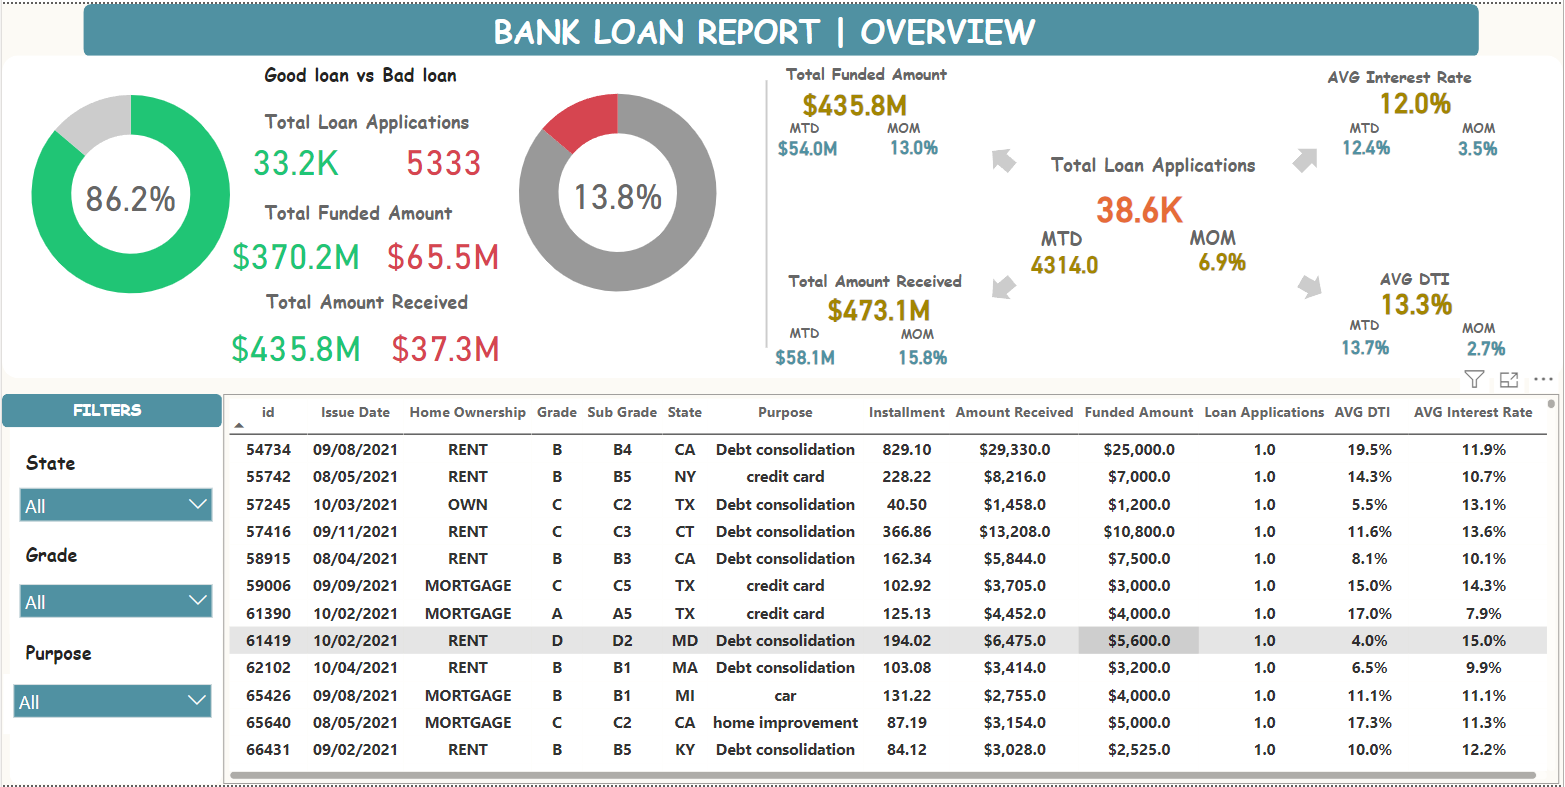

This screenshot's page, from the dashboard's own definition file:
{"tool":"powerbi","page":{"name":"Overview","canvas":[1600,800],"ordinal":1},"visuals":[{"type":"shape","box":[82.9,0,1430.7,54.3],"z":0},{"type":"textbox","box":[1069.5,146.1,252.5,45.1],"z":0,"group":"g1"},{"type":"textbox","box":[498.6,0,665.8,69.3],"z":1000},{"type":"card","fields":{"Values":["calculations.Total loan applications"]},"box":[1091.1,173.2,151.5,70.3],"z":1000,"group":"g1"},{"type":"shape","box":[0,52.4,1600,331.1],"z":2000},{"type":"textbox","box":[1060.5,221.8,61.3,45.1],"z":2000,"group":"g1"},{"type":"donutChart","fields":{"Category":["bank loan data.Good vs Bad Loan"],"Y":["calculations.Total loan applications"]},"box":[0,55.7,264.3,280],"z":3000},{"type":"textbox","box":[1212,220,79.4,45.1],"z":3000,"group":"g1"},{"type":"donutChart","fields":{"Category":["bank loan data.Good vs Bad Loan"],"Y":["calculations.Total loan applications"]},"box":[499.6,54.1,263.3,279.5],"z":4000},{"type":"card","fields":{"Values":["calculations.MTD_loan_application"]},"box":[1015,244.6,149.5,43.5],"z":4000,"group":"g1"},{"type":"card","fields":{"Values":["calculations.Total funded amount"]},"box":[800,80.9,149.8,43.4],"z":5000},{"type":"card","fields":{"Values":["calculations.MOM_change_total-application"]},"box":[1175.3,244.6,152.2,36.7],"z":5000,"group":"g1"},{"type":"card","fields":{"Values":["calculations.Bad loan application %"]},"box":[537.4,146.1,187.6,97.4],"z":6000},{"type":"card","fields":{"Values":["calculations.Good loan application %"]},"box":[39,146.8,187.3,97.4],"z":7000},{"type":"textbox","box":[263.3,54.1,225.4,46.9],"z":8000},{"type":"textbox","box":[263.3,101,252.5,45.1],"z":9000},{"type":"card","fields":{"Values":["calculations.Good loan applications"]},"box":[225.4,124.4,151.5,70.3],"z":10000},{"type":"card","fields":{"Values":["calculations.Bad loan applications"]},"box":[376.9,124.4,151.5,70.3],"z":11000},{"type":"textbox","box":[263.3,194.8,225.4,46.9],"z":12000},{"type":"card","fields":{"Values":["calculations.Good loan total funded amount"]},"box":[225.4,220,151.5,70.3],"z":13000},{"type":"card","fields":{"Values":["calculations.Bad loan total funded amount"]},"box":[376.9,220,151.5,70.3],"z":14000},{"type":"textbox","box":[265.2,286.1,251.7,47.9],"z":15000},{"type":"card","fields":{"Values":["calculations.Good loan total amount received"]},"box":[225.4,315.6,151.5,70.3],"z":16000},{"type":"card","fields":{"Values":["calculations.Bad loan total amount received"]},"box":[378.7,315.6,151.5,70.3],"z":17000},{"type":"shape","box":[752,77.5,63.1,274.1],"z":18000},{"type":"group","id":"g1","title":"Group 1","box":[1015,146.1,312.5,142],"z":19000},{"type":"textbox","box":[798.5,55.4,226.2,46.4],"z":20000},{"type":"textbox","box":[801.4,112.9,67.1,47.1],"z":21000},{"type":"textbox","box":[901.4,112.9,68.6,47.1],"z":22000},{"type":"card","fields":{"Values":["calculations.MTD_funded_amount"]},"box":[751.4,127.1,150,42.9],"z":23000},{"type":"card","fields":{"Values":["calculations.MOM_change_funded_amount"]},"box":[860,125.7,150,42.9],"z":24000},{"type":"shape","box":[1322.8,137.8,25.5,44.9],"z":25000},{"type":"shape","box":[1014.2,137.8,25.5,44.9],"z":26000},{"type":"shape","box":[1014.2,268.2,25.5,44.9],"z":27000},{"type":"shape","box":[1327.3,268.2,25.5,44.9],"z":28000},{"type":"textbox","box":[800.3,267.7,226.9,42.1],"z":29000},{"type":"card","fields":{"Values":["calculations.Total_amont_received"]},"box":[814.3,291.4,168.6,42.9],"z":30000},{"type":"textbox","box":[801.4,322.9,67.1,47.1],"z":31000},{"type":"textbox","box":[915.7,324.3,67.1,47.1],"z":32000},{"type":"card","fields":{"Values":["calculations.MTD_amount_received"]},"box":[748.6,341.4,150,42.9],"z":33000},{"type":"card","fields":{"Values":["calculations.MOM_change_amount_received"]},"box":[868.6,341.4,150,42.9],"z":34000},{"type":"textbox","box":[1352.8,58.4,226.2,41.9],"z":35000},{"type":"card","fields":{"Values":["calculations.AVG_interest_rate"]},"box":[1373.8,77.9,149.8,43.4],"z":36000},{"type":"textbox","box":[1375.7,112.9,67.1,47.1],"z":37000},{"type":"textbox","box":[1491.4,112.9,68.6,47.1],"z":38000},{"type":"card","fields":{"Values":["calculations.MTD_average_interest_rate"]},"box":[1323.4,125,149.5,43.5],"z":39000},{"type":"card","fields":{"Values":["calculations.MOM_change_avg_int_rate"]},"box":[1437.5,126.4,150.8,43.5],"z":40000},{"type":"textbox","box":[1406.7,265.2,115.4,41.9],"z":41000},{"type":"card","fields":{"Values":["calculations.avg_dti"]},"box":[1375.3,284.6,149.8,43.4],"z":42000},{"type":"textbox","box":[1375.7,315.7,67.1,47.1],"z":43000},{"type":"textbox","box":[1491.4,317.1,68.6,47.1],"z":44000},{"type":"card","fields":{"Values":["calculations.MTD_avg_dti"]},"box":[1322.8,331.1,149.8,43.4],"z":45000},{"type":"card","fields":{"Values":["calculations.MOM_change_avg_dti"]},"box":[1447.1,331.4,150,42.9],"z":46000},{"type":"shape","box":[245.3,400.4,1354.4,400.4],"z":47000},{"type":"shape","box":[7.2,400.4,218.2,400.4],"z":48000},{"type":"shape","box":[245.3,404,1340,34.3],"z":49000},{"type":"slicer","fields":{"Values":["Parameter.Parameter"]},"box":[248.9,396.8,389.5,45.1],"z":50000},{"type":"shape","box":[0,400.4,225.4,34.3],"z":51000},{"type":"textbox","box":[67.4,400,131.8,34.5],"z":52000},{"type":"slicer","fields":{"Values":["bank loan data.State"]},"box":[7.2,485.1,218.2,61.3],"z":53000},{"type":"textbox","box":[19.8,546.4,225.4,46.9],"z":54000},{"type":"slicer","fields":{"Values":["bank loan data.grade"]},"box":[7.2,584.3,218.2,61.3],"z":55000},{"type":"slicer","fields":{"Values":["bank loan data.purpose"]},"box":[1.8,687.1,223.6,61.3],"z":56000},{"type":"textbox","box":[19.8,450.9,225.4,46.9],"z":57000},{"type":"textbox","box":[19.8,645.6,225.4,46.9],"z":58000},{"type":"donutChart","fields":{"Y":["calculations.Total funded amount"],"Category":["bank loan data.term"]},"box":[266.9,452.7,284.9,317.4],"z":59000},{"type":"shape","box":[225.4,449.1,61.3,321],"z":60000},{"type":"shape","box":[537.4,447.3,63.1,321],"z":61000},{"type":"barChart","fields":{"Y":["calculations.Total funded amount"],"Category":["bank loan data.emp_length"]},"box":[577.1,445.5,321,349.9],"z":62000},{"type":"barChart","fields":{"Y":["calculations.Total funded amount"],"Category":["bank loan data.purpose"]},"box":[925.2,445.5,294,349.9],"z":63000},{"type":"shape","box":[892.7,450.9,63.1,321],"z":64000},{"type":"shape","box":[1219.1,459.9,63.1,321],"z":65000},{"type":"treemap","title":"Total funded amount by Home Ownership","fields":{"Values":["calculations.Total funded amount"],"Group":["bank loan data.home_ownership"]},"box":[1258.8,445.5,326.4,346.3],"z":66000}]}

Visuals, with their boxes in screenshot pixels (x1, y1, x2, y2), scaled from the page's 1600x800 canvas onto the 1565x787 screenshot:
shape: <bbox>81, 0, 1480, 53</bbox>
textbox: <bbox>1046, 144, 1293, 188</bbox>
textbox: <bbox>488, 0, 1139, 68</bbox>
card - calculations.Total loan applications: <bbox>1067, 170, 1215, 240</bbox>
shape: <bbox>0, 52, 1564, 377</bbox>
textbox: <bbox>1037, 218, 1097, 263</bbox>
donutChart - bank loan data.Good vs Bad Loan x calculations.Total loan applications: <bbox>0, 55, 259, 330</bbox>
textbox: <bbox>1185, 216, 1263, 261</bbox>
donutChart - bank loan data.Good vs Bad Loan x calculations.Total loan applications: <bbox>489, 53, 746, 328</bbox>
card - calculations.MTD_loan_application: <bbox>993, 241, 1139, 283</bbox>
card - calculations.Total funded amount: <bbox>782, 80, 929, 122</bbox>
card - calculations.MOM_change_total-application: <bbox>1150, 241, 1298, 277</bbox>
card - calculations.Bad loan application %: <bbox>526, 144, 709, 240</bbox>
card - calculations.Good loan application %: <bbox>38, 144, 221, 240</bbox>
textbox: <bbox>258, 53, 478, 99</bbox>
textbox: <bbox>258, 99, 505, 144</bbox>
card - calculations.Good loan applications: <bbox>220, 122, 369, 192</bbox>
card - calculations.Bad loan applications: <bbox>369, 122, 517, 192</bbox>
textbox: <bbox>258, 192, 478, 238</bbox>
card - calculations.Good loan total funded amount: <bbox>220, 216, 369, 286</bbox>
card - calculations.Bad loan total funded amount: <bbox>369, 216, 517, 286</bbox>
textbox: <bbox>259, 281, 506, 329</bbox>
card - calculations.Good loan total amount received: <bbox>220, 310, 369, 380</bbox>
card - calculations.Bad loan total amount received: <bbox>370, 310, 519, 380</bbox>
shape: <bbox>736, 76, 797, 346</bbox>
"Group 1" group: <bbox>993, 144, 1298, 283</bbox>
textbox: <bbox>781, 54, 1002, 100</bbox>
textbox: <bbox>784, 111, 850, 157</bbox>
textbox: <bbox>882, 111, 949, 157</bbox>
card - calculations.MTD_funded_amount: <bbox>735, 125, 882, 167</bbox>
card - calculations.MOM_change_funded_amount: <bbox>841, 124, 988, 166</bbox>
shape: <bbox>1294, 136, 1319, 180</bbox>
shape: <bbox>992, 136, 1017, 180</bbox>
shape: <bbox>992, 264, 1017, 308</bbox>
shape: <bbox>1298, 264, 1323, 308</bbox>
textbox: <bbox>783, 263, 1005, 305</bbox>
card - calculations.Total_amont_received: <bbox>796, 287, 961, 329</bbox>
textbox: <bbox>784, 318, 850, 364</bbox>
textbox: <bbox>896, 319, 961, 365</bbox>
card - calculations.MTD_amount_received: <bbox>732, 336, 879, 378</bbox>
card - calculations.MOM_change_amount_received: <bbox>850, 336, 996, 378</bbox>
textbox: <bbox>1323, 57, 1544, 99</bbox>
card - calculations.AVG_interest_rate: <bbox>1344, 77, 1490, 119</bbox>
textbox: <bbox>1346, 111, 1411, 157</bbox>
textbox: <bbox>1459, 111, 1526, 157</bbox>
card - calculations.MTD_average_interest_rate: <bbox>1294, 123, 1441, 166</bbox>
card - calculations.MOM_change_avg_int_rate: <bbox>1406, 124, 1554, 167</bbox>
textbox: <bbox>1376, 261, 1489, 302</bbox>
card - calculations.avg_dti: <bbox>1345, 280, 1492, 323</bbox>
textbox: <bbox>1346, 311, 1411, 357</bbox>
textbox: <bbox>1459, 312, 1526, 358</bbox>
card - calculations.MTD_avg_dti: <bbox>1294, 326, 1440, 368</bbox>
card - calculations.MOM_change_avg_dti: <bbox>1415, 326, 1562, 368</bbox>
shape: <bbox>240, 394, 1564, 786</bbox>
shape: <bbox>7, 394, 220, 786</bbox>
shape: <bbox>240, 397, 1551, 431</bbox>
slicer - Parameter.Parameter: <bbox>243, 390, 624, 435</bbox>
shape: <bbox>0, 394, 220, 428</bbox>
textbox: <bbox>66, 394, 195, 427</bbox>
slicer - bank loan data.State: <bbox>7, 477, 220, 538</bbox>
textbox: <bbox>19, 538, 240, 584</bbox>
slicer - bank loan data.grade: <bbox>7, 575, 220, 635</bbox>
slicer - bank loan data.purpose: <bbox>2, 676, 220, 736</bbox>
textbox: <bbox>19, 444, 240, 490</bbox>
textbox: <bbox>19, 635, 240, 681</bbox>
donutChart - calculations.Total funded amount x bank loan data.term: <bbox>261, 445, 540, 758</bbox>
shape: <bbox>220, 442, 280, 758</bbox>
shape: <bbox>526, 440, 587, 756</bbox>
barChart - calculations.Total funded amount x bank loan data.emp_length: <bbox>564, 438, 878, 782</bbox>
barChart - calculations.Total funded amount x bank loan data.purpose: <bbox>905, 438, 1193, 782</bbox>
shape: <bbox>873, 444, 935, 759</bbox>
shape: <bbox>1192, 452, 1254, 768</bbox>
"Total funded amount by Home Ownership" treemap: <bbox>1231, 438, 1551, 779</bbox>
